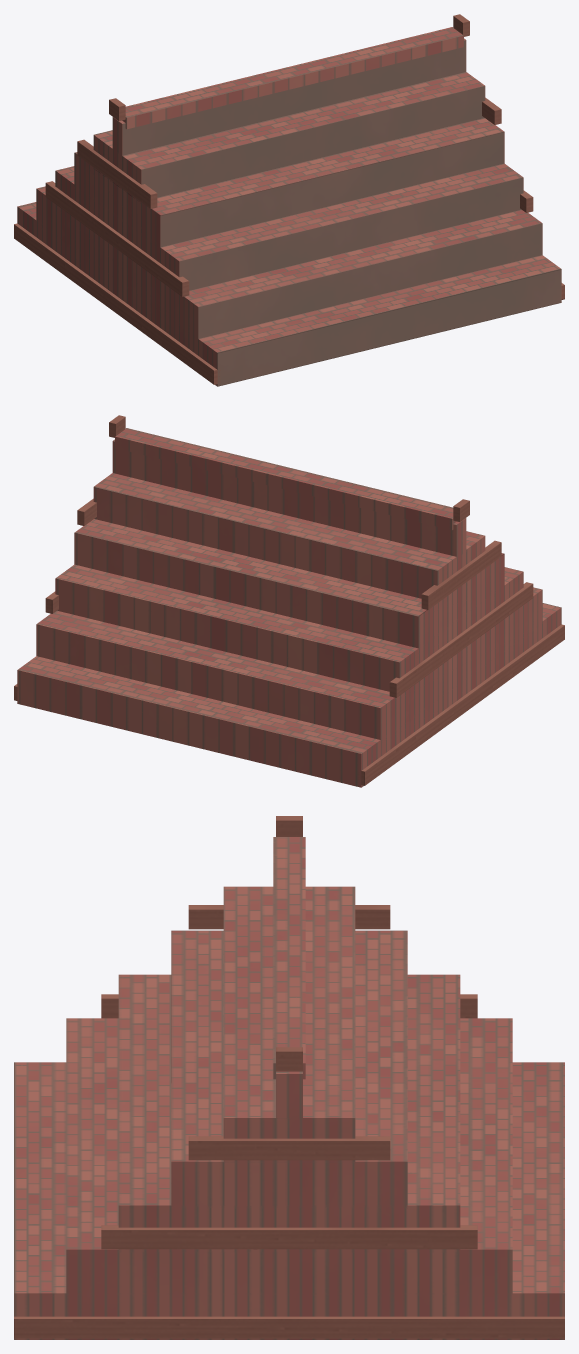
Rendered from med_roof_tile_steep.glb.
3 renders of one model, top to bottom at view 1: azimuth 30°, elevation 25°; view 2: azimuth 150°, elevation 25°; view 3: azimuth 270°, elevation 25°, orthographic. The views are drawn at different scales.
Parts seen in each view (by area): view 1: med_roof_tile_steep; view 2: med_roof_tile_steep; view 3: med_roof_tile_steep.
Part boxes in pixels (left/top/right/bottom): med_roof_tile_steep: left=14, top=14, right=564, bottom=386; med_roof_tile_steep: left=14, top=415, right=564, bottom=787; med_roof_tile_steep: left=14, top=816, right=564, bottom=1339.
Size of the model in its own units: 4.13 by 2.37 by 4.08.
Materials: 1 (1 with a texture image).
